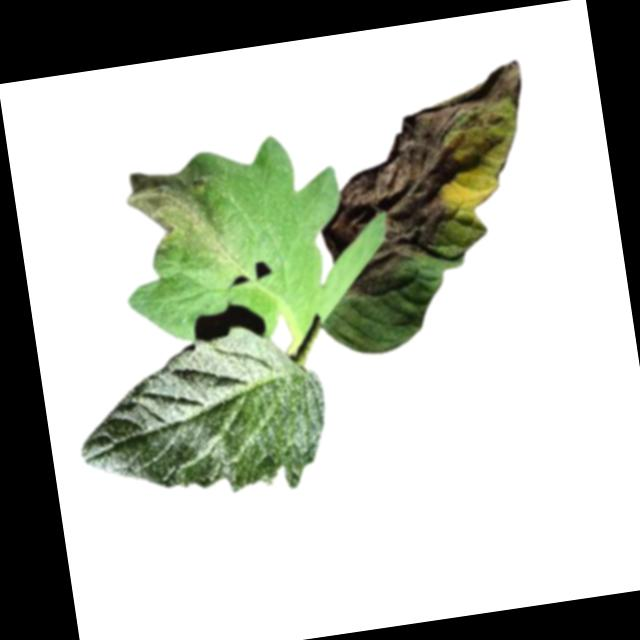Late_blight: (300, 58, 550, 303), (121, 155, 238, 266)
